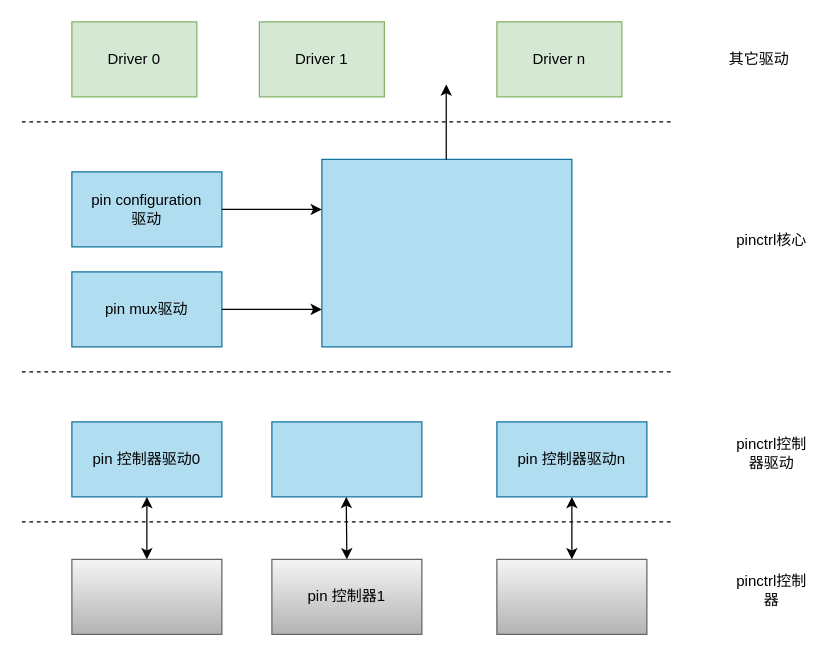
Some shapes in this 831 by 656 pixel diagram are drawn without their labels. Each missing label, with the centre of its shape:
"pin control core driver" goes at pixel 446 252.
"pin 控制器0" goes at pixel 146 596.
"pin 控制器n" goes at pixel 571 596.
"pin 控制器驱动1" goes at pixel 346 459.
